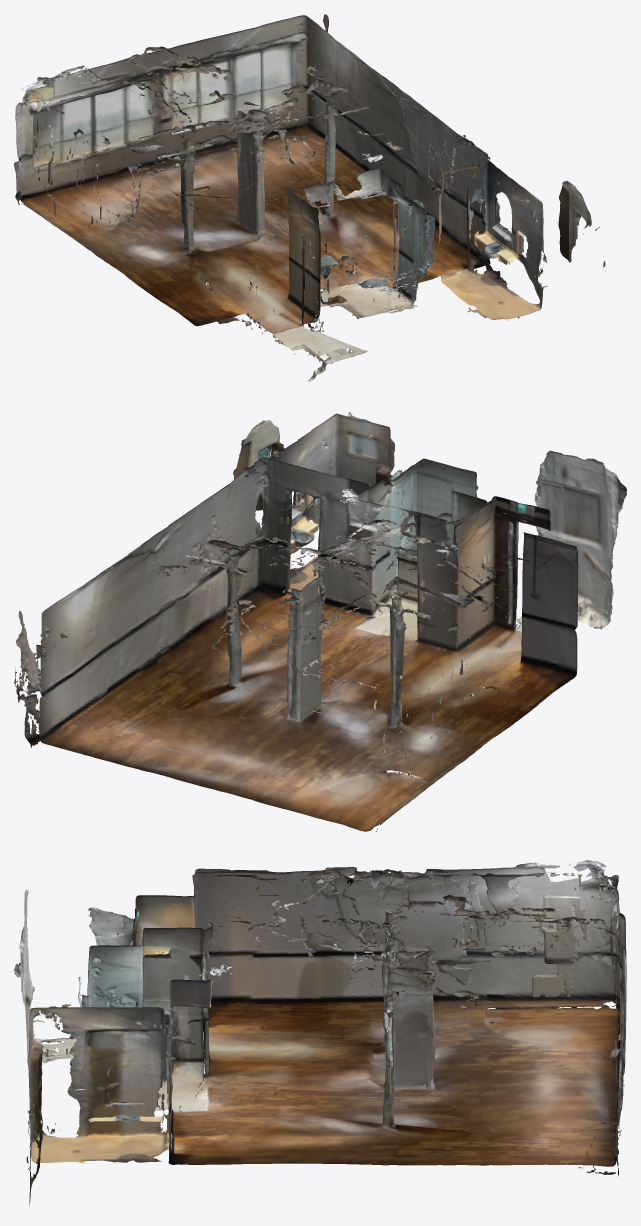
Rendered from scan_original_mobile.glb.
3 views of the same model, one above another, from view 1: azimuth 30°, elevation 25°; view 2: azimuth 150°, elevation 25°; view 3: azimuth 270°, elevation 25° (orthographic). The views are drawn at different scales.
Parts seen in each view (by area): view 1: Scaniverse_2026_10_26_113837.obj; view 2: Scaniverse_2026_10_26_113837.obj; view 3: Scaniverse_2026_10_26_113837.obj.
Boxes of the visible parts, x1,y1,x2,y2 form: Scaniverse_2026_10_26_113837.obj: (14,14,605,382); Scaniverse_2026_10_26_113837.obj: (14,412,626,831); Scaniverse_2026_10_26_113837.obj: (14,860,626,1207).
Bounding box in the file's own units: 8.11 × 3.06 × 9.83.
1 material, 1 textured.
